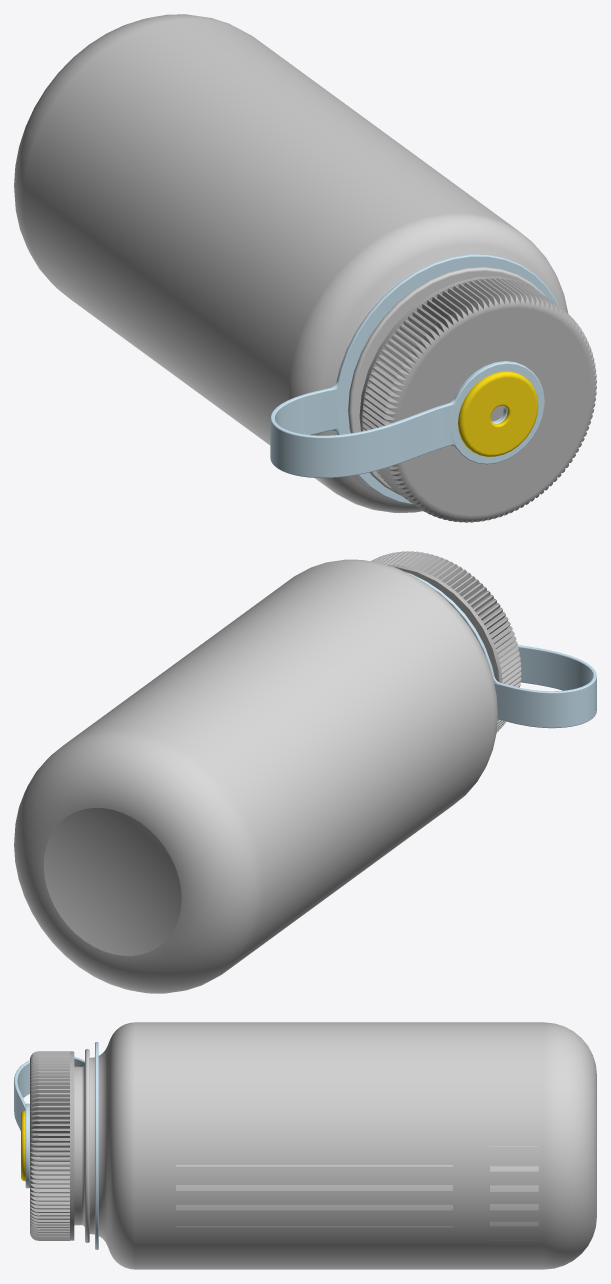
The model's file is nalgene.gltf.
3 renders of one model, top to bottom at view 1: azimuth 30°, elevation 25°; view 2: azimuth 150°, elevation 25°; view 3: azimuth 270°, elevation 25°, orthographic. The views are drawn at different scales.
Parts seen in each view (by area): view 1: nalgene; view 2: nalgene; view 3: nalgene.
Boxes of the visible parts, left/top/right/bottom form: nalgene: left=14, top=14, right=596, bottom=522; nalgene: left=14, top=551, right=596, bottom=993; nalgene: left=14, top=1022, right=596, bottom=1269.
Bounding box in the file's own units: 0.1087 × 0.0889 × 0.2097.
